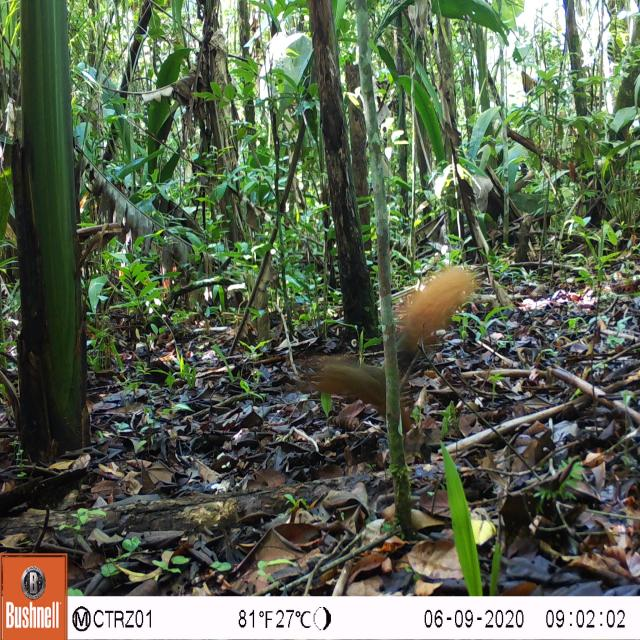Squirrel: (296, 254, 484, 440)
